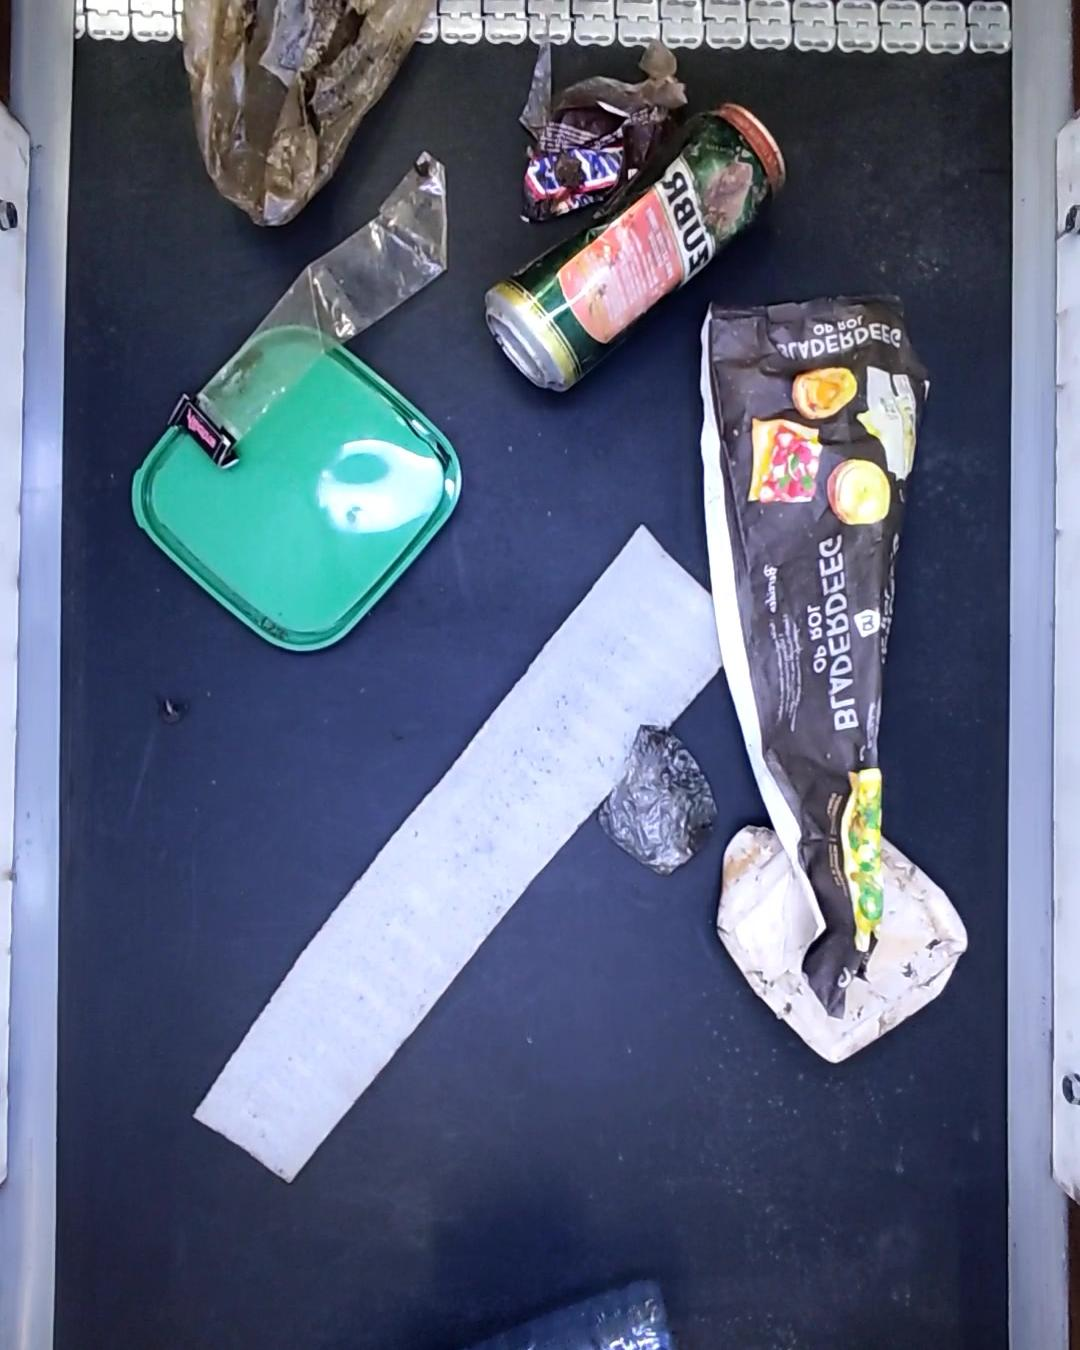Drankblikjes: (487, 101, 782, 388)
Drankflessen - 1-2 liter: (458, 1276, 676, 1350)
Plastic folies of stukken daarvan 2.5- 50 cm: (168, 151, 451, 471), (175, 0, 433, 225), (512, 31, 690, 136)
Snoep snack en chips verpakkingen: (501, 106, 663, 223)
Voedselverpakkingen: (705, 287, 937, 1017)
